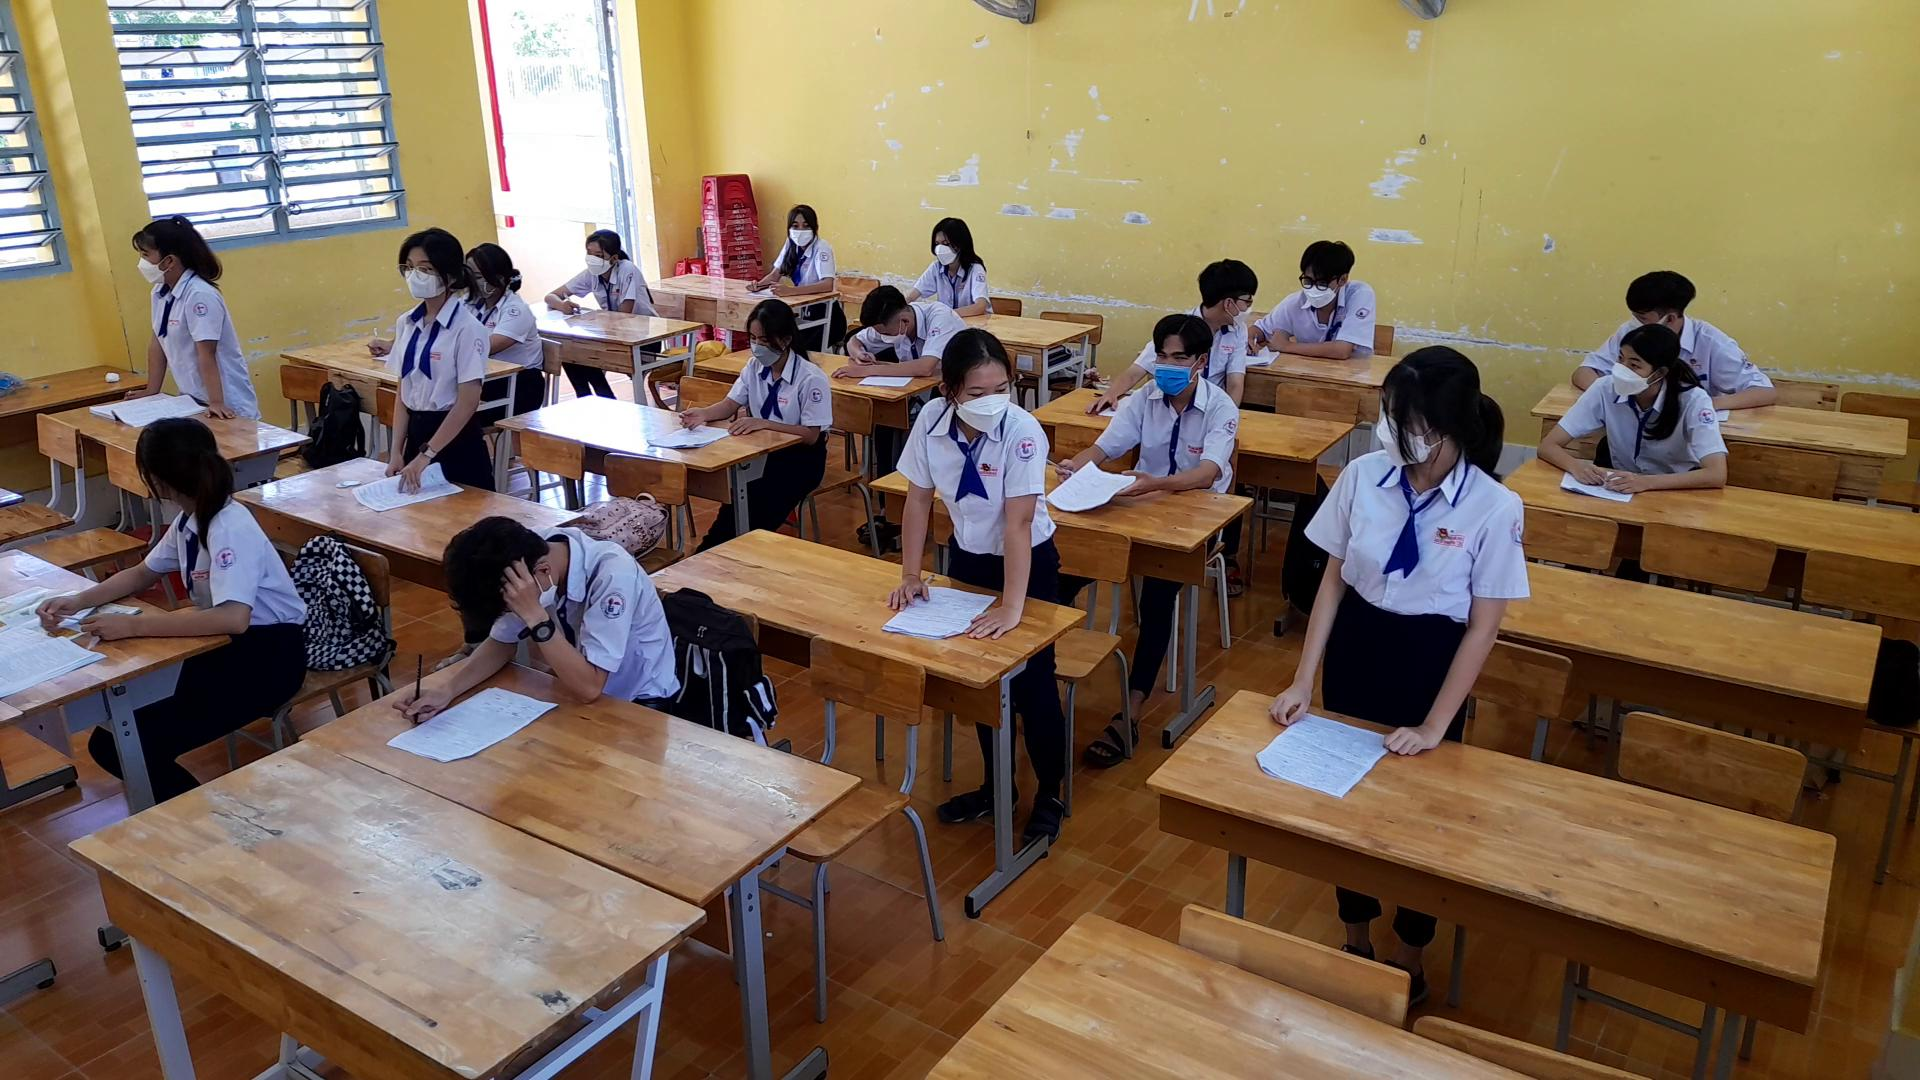Hand Under Table: (612, 264, 640, 327)
Look Around: (123, 410, 229, 517), (1189, 243, 1269, 334)
Normal: (1048, 310, 1241, 500), (1538, 313, 1729, 498), (683, 290, 836, 444), (1253, 227, 1385, 363), (744, 190, 844, 302), (913, 208, 1004, 316)
Stand Up: (1262, 336, 1534, 762), (878, 320, 1059, 647), (371, 220, 495, 500), (117, 214, 260, 419)
Wave: (497, 556, 645, 702)
